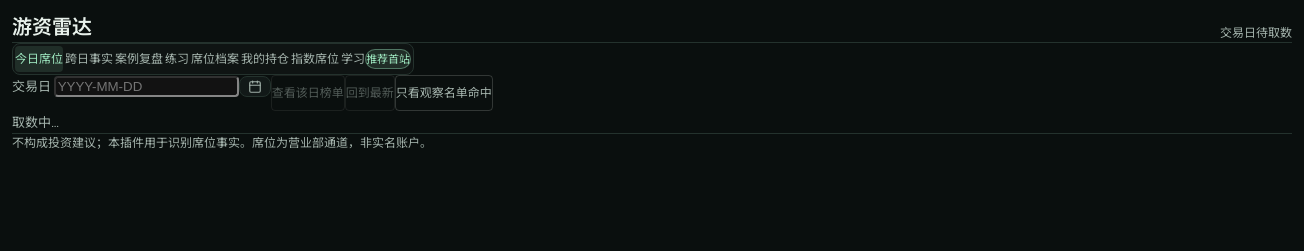
Test: YouziPage · 案例复盘页签（Y3-07） › 日历不可用 → 显式原因，且说明「不是没有披露」，不显示空表
The image size is (1304, 251).
Click the button titled "按证券代码与日期区间查看披露事件时间线": coordinates (139, 59) [115,46,163,72]
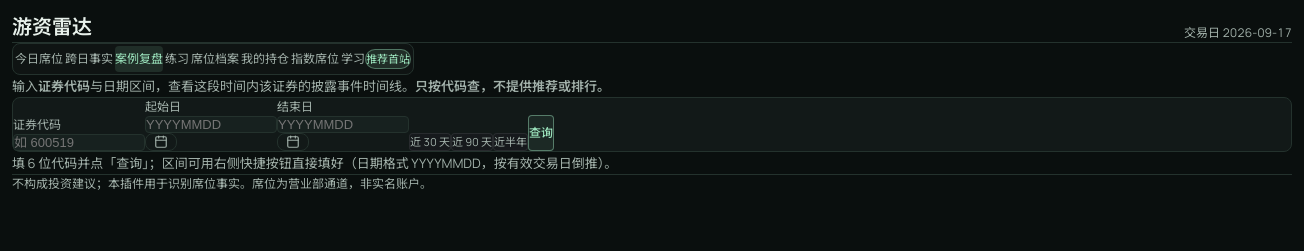
Expected: the button "查询" is shown, [528,115,554,151]
In the field with placeholder "如 600519": coordinates (79, 143) [13,134,145,151], type "600519"
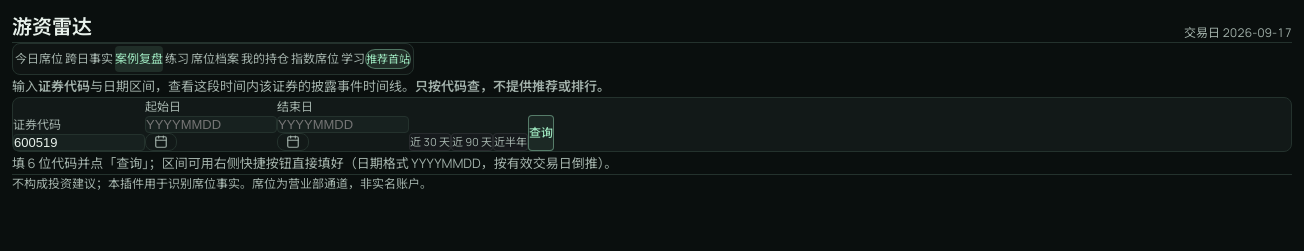
In the field with placeholder "YYYYMMDD": coordinates (211, 125) [145,116,277,133], type "20260907"
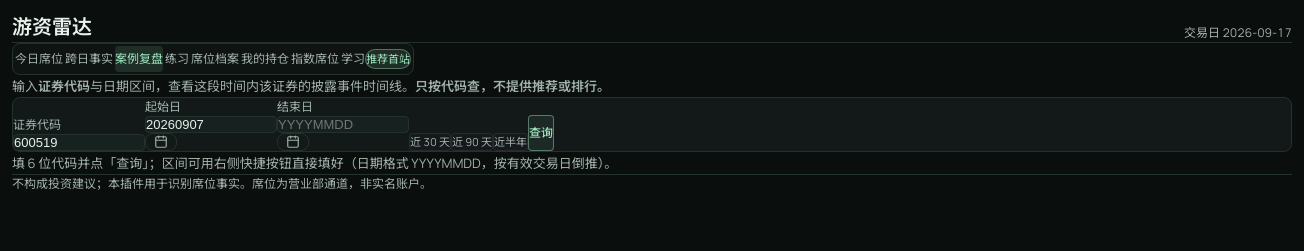
In the field with placeholder "YYYYMMDD": coordinates (343, 125) [277,116,409,133], type "20260917"
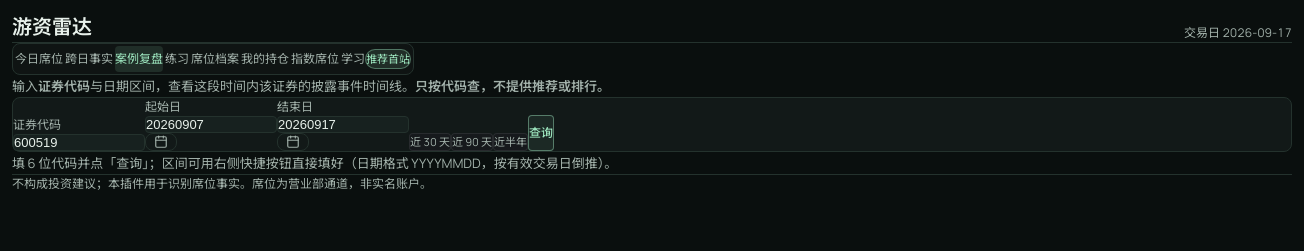
Click the button "查询": coordinates (541, 133) [528,115,554,151]
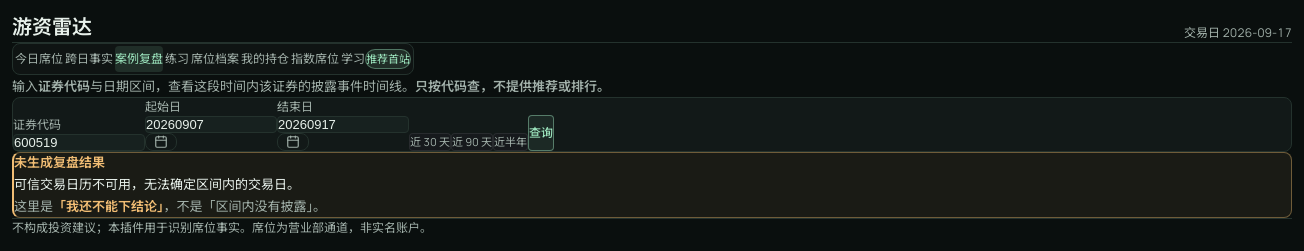
Expected: the text "可信交易日历不可用，无法确定区间内的交易日。" is shown, [14,173,300,195]
Expected: the text "这里是「我还不能下结论」，不是「区间内没有披露」。" is shown, [14,195,326,217]
